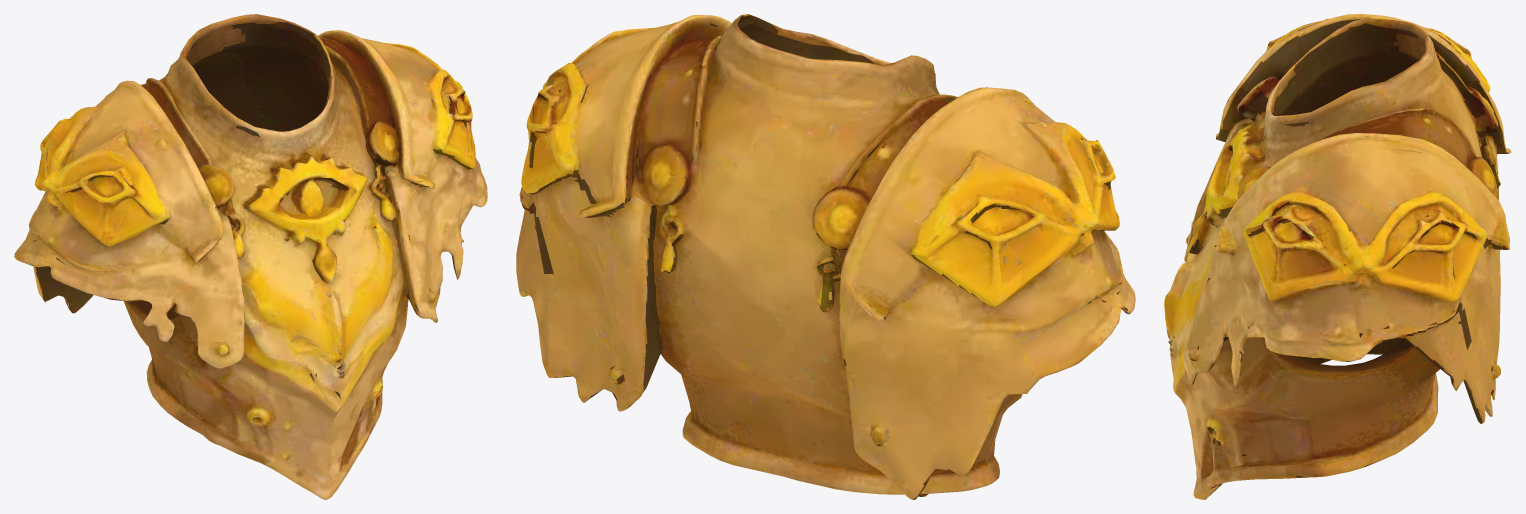
Rendered from oraculo-peitoral.glb.
The picture shows the model from 3 angles, left to right: view 1: azimuth 30°, elevation 25°; view 2: azimuth 150°, elevation 25°; view 3: azimuth 270°, elevation 25°; orthographic projection. The views are drawn at different scales.
Visible parts, largest first — view 1: tripo_node_4ae5fc1a-2567-4ddd-9741-036d52d03dcf; view 2: tripo_node_4ae5fc1a-2567-4ddd-9741-036d52d03dcf; view 3: tripo_node_4ae5fc1a-2567-4ddd-9741-036d52d03dcf.
Boxes of the visible parts, <box> form: tripo_node_4ae5fc1a-2567-4ddd-9741-036d52d03dcf: <box>14,14,487,499</box>; tripo_node_4ae5fc1a-2567-4ddd-9741-036d52d03dcf: <box>516,14,1135,499</box>; tripo_node_4ae5fc1a-2567-4ddd-9741-036d52d03dcf: <box>1164,14,1511,499</box>.
Bounding box in the file's own units: 0.9736 × 0.8571 × 0.5902.
Materials: 1 (1 with a texture image).
